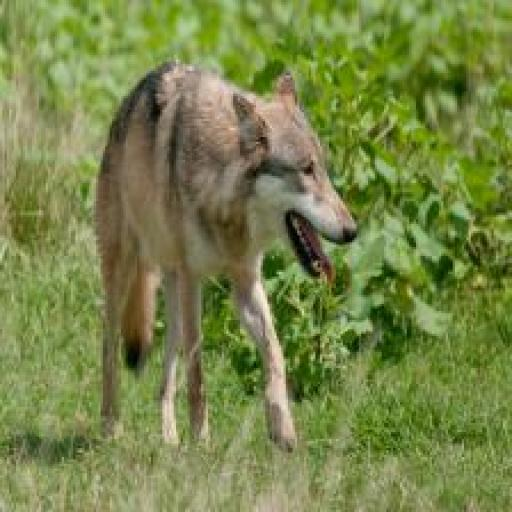wolf: (94, 59, 361, 454)
